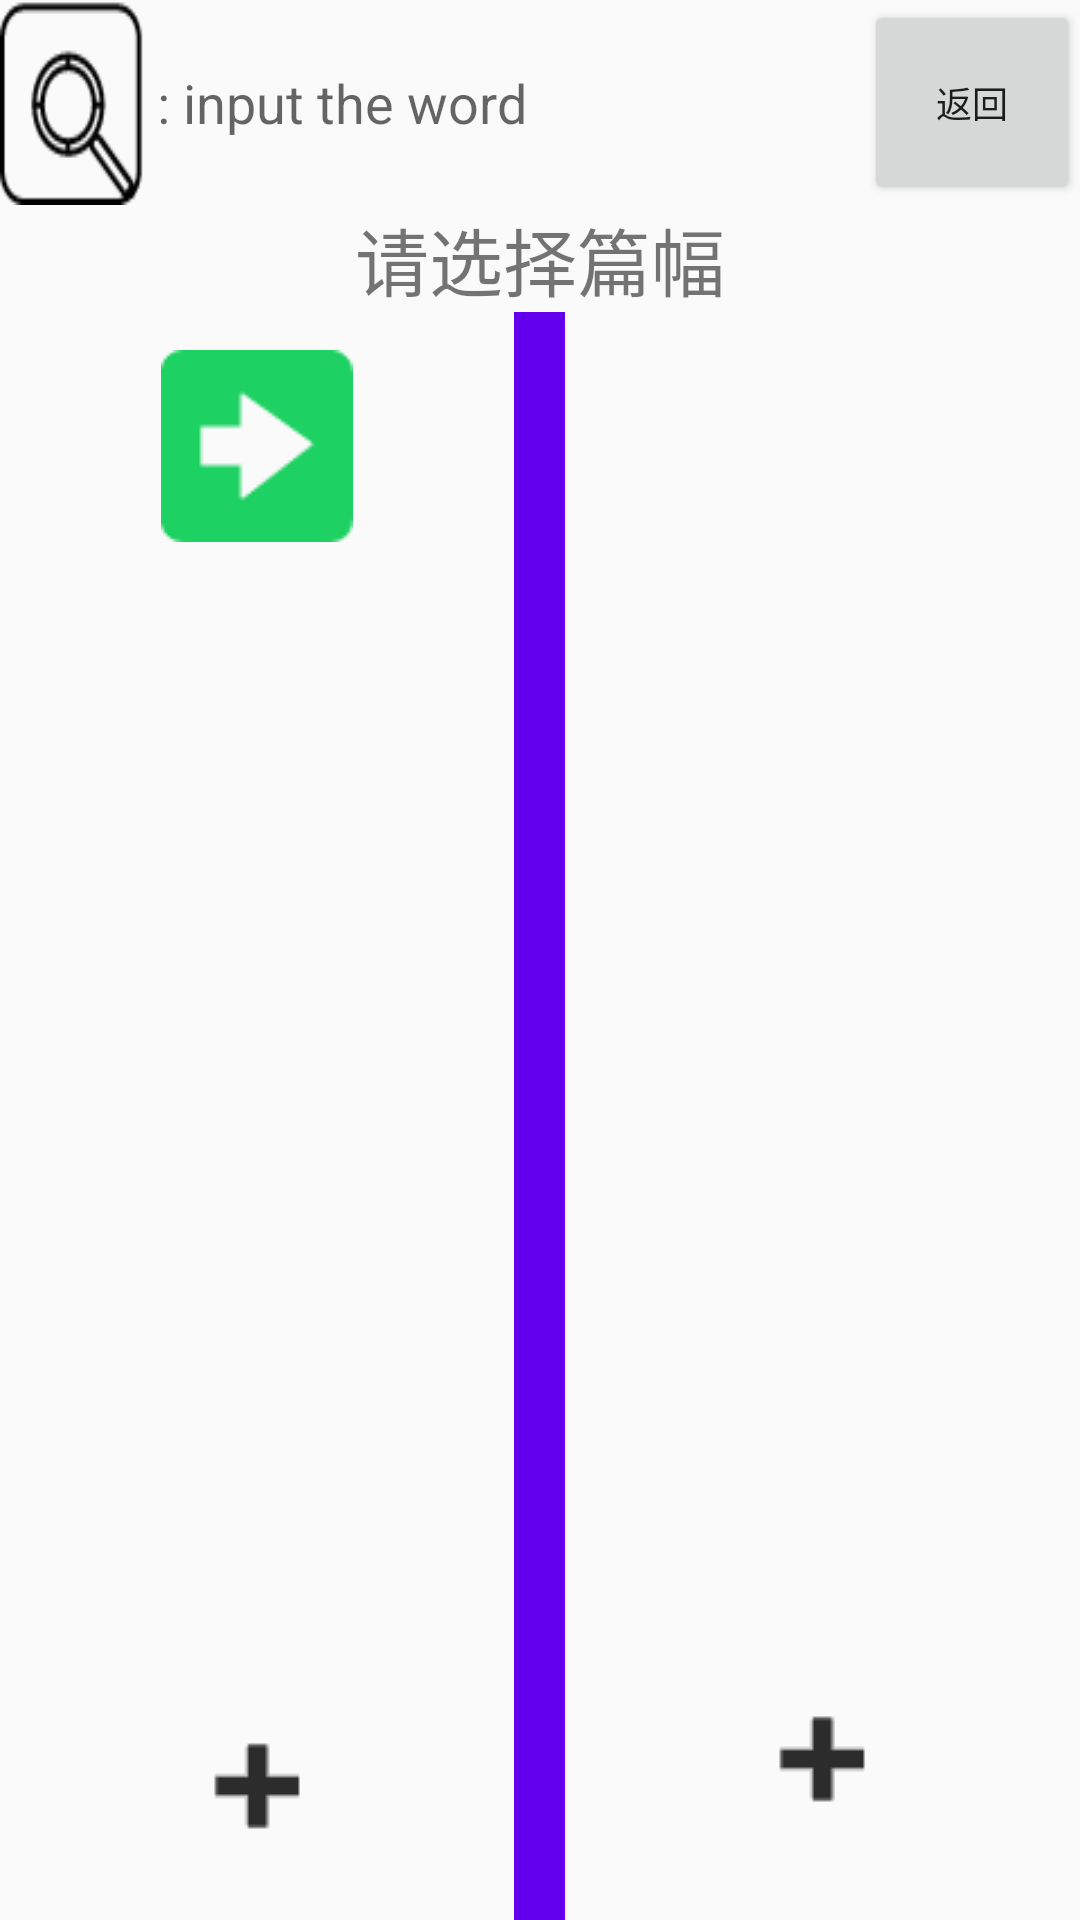

Icon click points for this 1080x1920 phone screenshot, format (x,y):
add: (822,1759), (257,1786)
right: (257,446)
search: (71,103)
